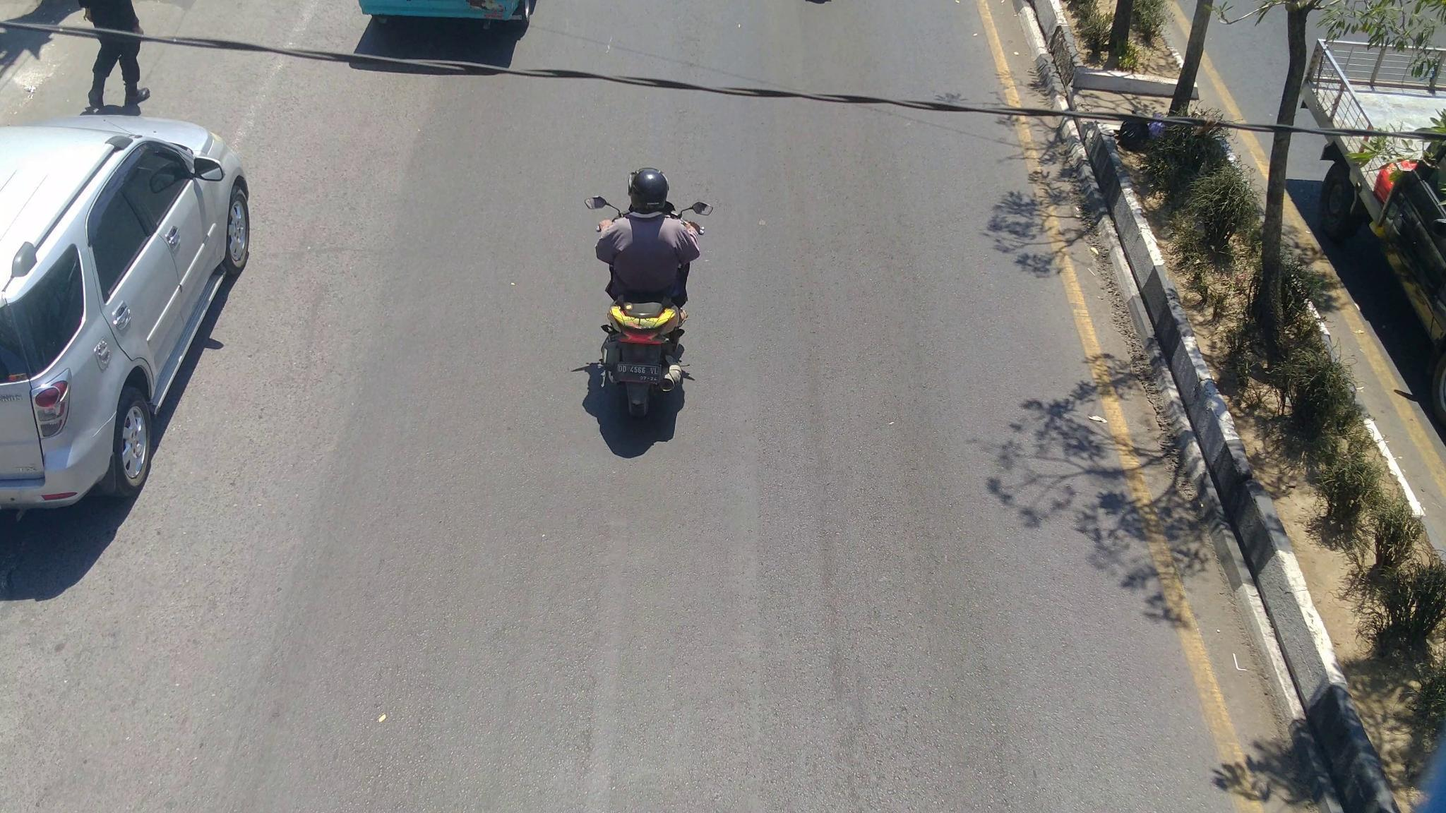Helmet: (621, 163, 677, 219)
bike: (580, 191, 718, 423)
number-plate: (614, 361, 664, 385)
rider: (599, 166, 701, 316)
